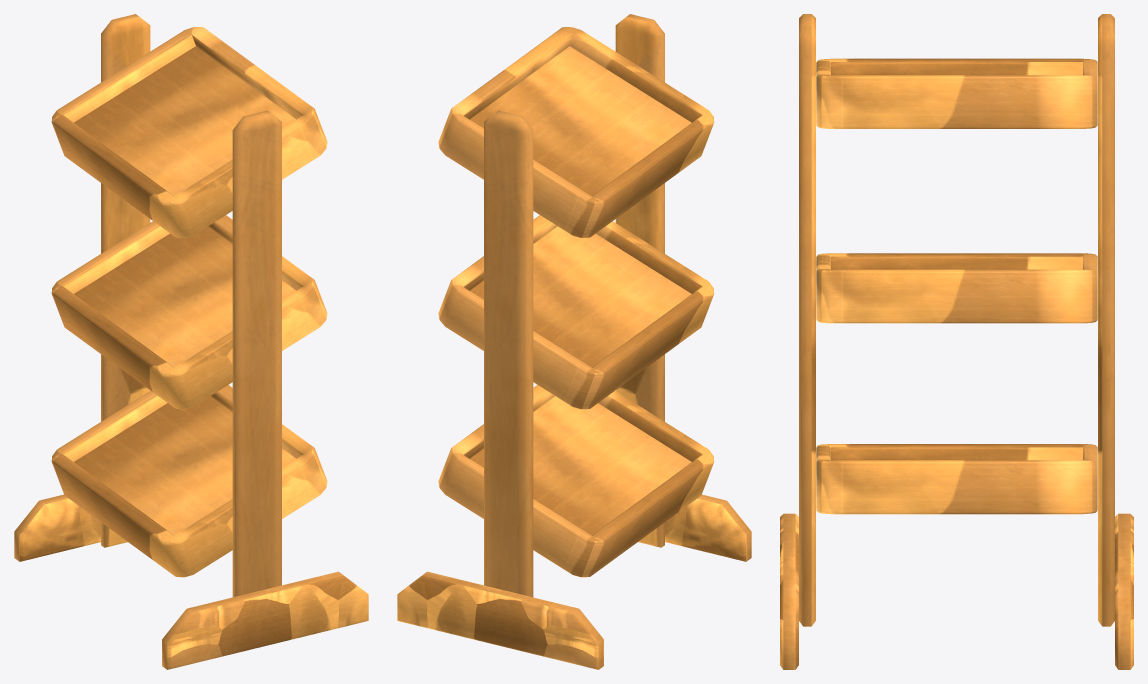
The model's file is SM_Shelf_3.fbx.
The picture shows the model from 3 angles, left to right: view 1: azimuth 30°, elevation 25°; view 2: azimuth 150°, elevation 25°; view 3: azimuth 270°, elevation 25°; orthographic projection. The views are drawn at different scales.
Visible parts, largest first — view 1: SM_Shelf_3_LOD0; view 2: SM_Shelf_3_LOD0; view 3: SM_Shelf_3_LOD0.
Part boxes in pixels (x1,y1,x2,y2): SM_Shelf_3_LOD0: (14, 14, 368, 669); SM_Shelf_3_LOD0: (397, 14, 751, 669); SM_Shelf_3_LOD0: (780, 14, 1133, 669).
Size of the model in its own units: 62.46 by 83.81 by 155.
